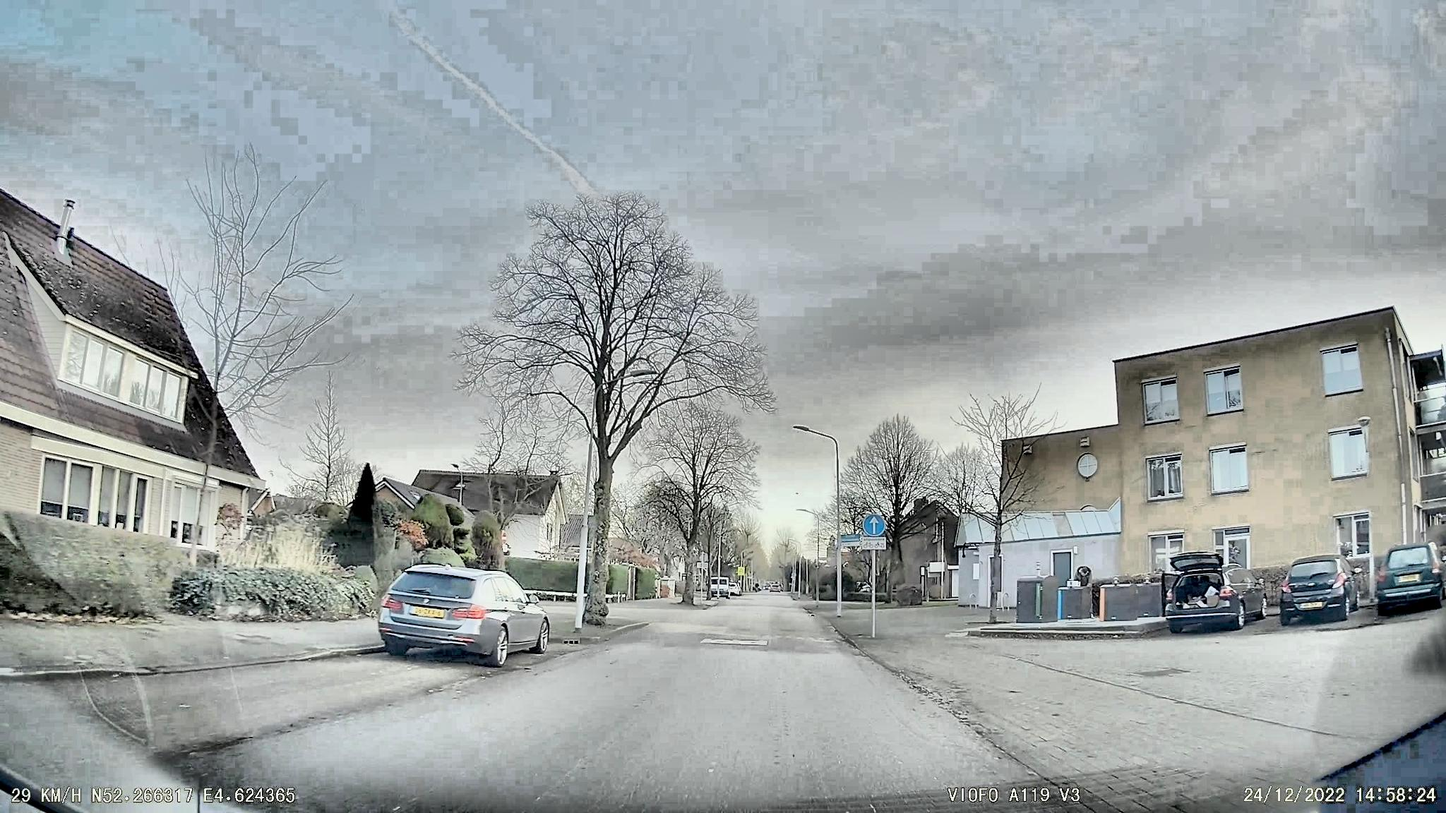Roads: (0, 611, 1446, 813)
